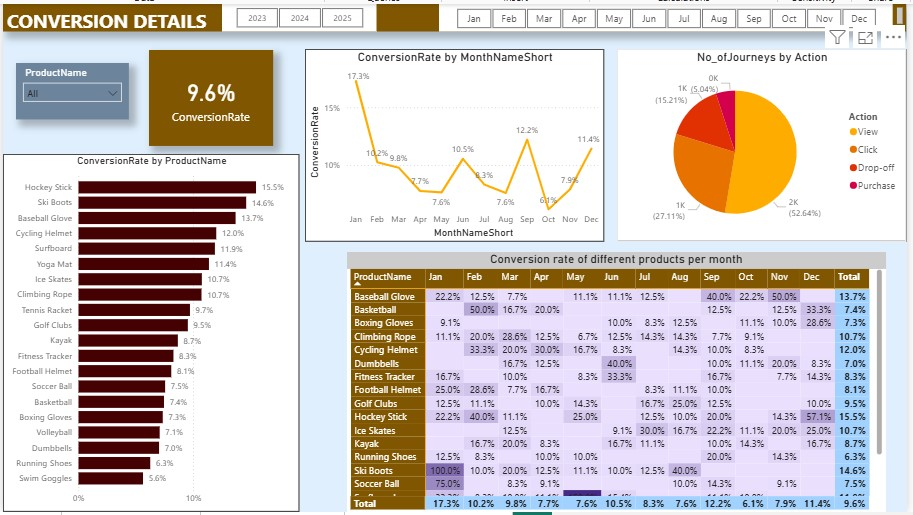

The page's visual inventory and layout, read from the dashboard file:
{"tool":"powerbi","page":{"name":"ConversionDetails","canvas":[1280,720],"ordinal":1},"visuals":[{"type":"textbox","box":[0.5,0,1279.5,38.6],"z":0},{"type":"slicer","fields":{"Values":["dim_products.ProductName"]},"box":[18.1,83.1,160.2,79.5],"z":1000},{"type":"card","fields":{"Values":["Calcultions_Measures.ConversionRate"]},"box":[207.2,65.1,175.9,136.1],"z":2000},{"type":"slicer","fields":{"Values":["Calendar.Year"]},"box":[310.8,0,219.3,38.6],"z":3000},{"type":"slicer","fields":{"Values":["Calendar.MonthNameShort"]},"box":[618.1,0,643.4,38.6],"z":4000},{"type":"clusteredBarChart","fields":{"Y":["Calcultions_Measures.ConversionRate"],"Category":["dim_products.ProductName"]},"box":[0,213.3,420.5,507.2],"z":5000},{"type":"pivotTable","title":"Conversion rate of different products per month","fields":{"Rows":["dim_products.ProductName"],"Columns":["Calendar.MonthNameShort"],"Values":["Calcultions_Measures.ConversionRate"]},"box":[488,351.8,763.9,369.9],"z":6000},{"type":"lineChart","fields":{"Y":["Calcultions_Measures.ConversionRate"],"Category":["Calendar.MonthNameShort"]},"box":[427.7,63.9,424.1,273.5],"z":7000},{"type":"pieChart","fields":{"Y":["Calcultions_Measures.No_ofJourneys"],"Category":["Fact_customer_journey.Action"]},"box":[869.9,63.9,409.6,273.5],"z":8000}]}

Visuals, with their boxes on the page's 1280x720 design canvas (x1, y1, x2, y2). These are canvas units, not pixel positions in the 913x515 screenshot, which may show the page scaled, cropped or inside an application window:
textbox: x1=0 y1=0 x2=1280 y2=39
slicer - dim_products.ProductName: x1=18 y1=83 x2=178 y2=163
card - Calcultions_Measures.ConversionRate: x1=207 y1=65 x2=383 y2=201
slicer - Calendar.Year: x1=311 y1=0 x2=530 y2=39
slicer - Calendar.MonthNameShort: x1=618 y1=0 x2=1262 y2=39
clusteredBarChart - Calcultions_Measures.ConversionRate x dim_products.ProductName: x1=0 y1=213 x2=420 y2=720
"Conversion rate of different products per month" pivotTable: x1=488 y1=352 x2=1252 y2=722
lineChart - Calcultions_Measures.ConversionRate x Calendar.MonthNameShort: x1=428 y1=64 x2=852 y2=337
pieChart - Calcultions_Measures.No_ofJourneys x Fact_customer_journey.Action: x1=870 y1=64 x2=1280 y2=337
